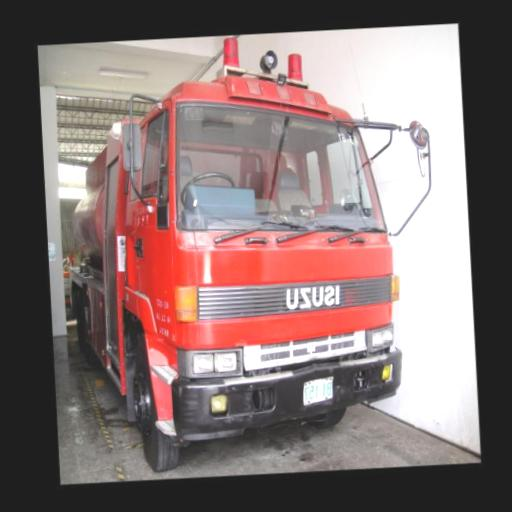fire truck: (30, 24, 468, 482)
